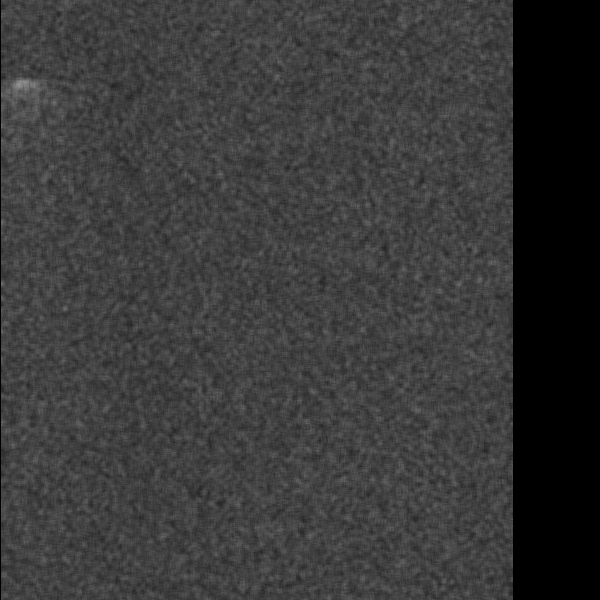spark: (140, 105, 187, 145), (258, 438, 276, 496)
